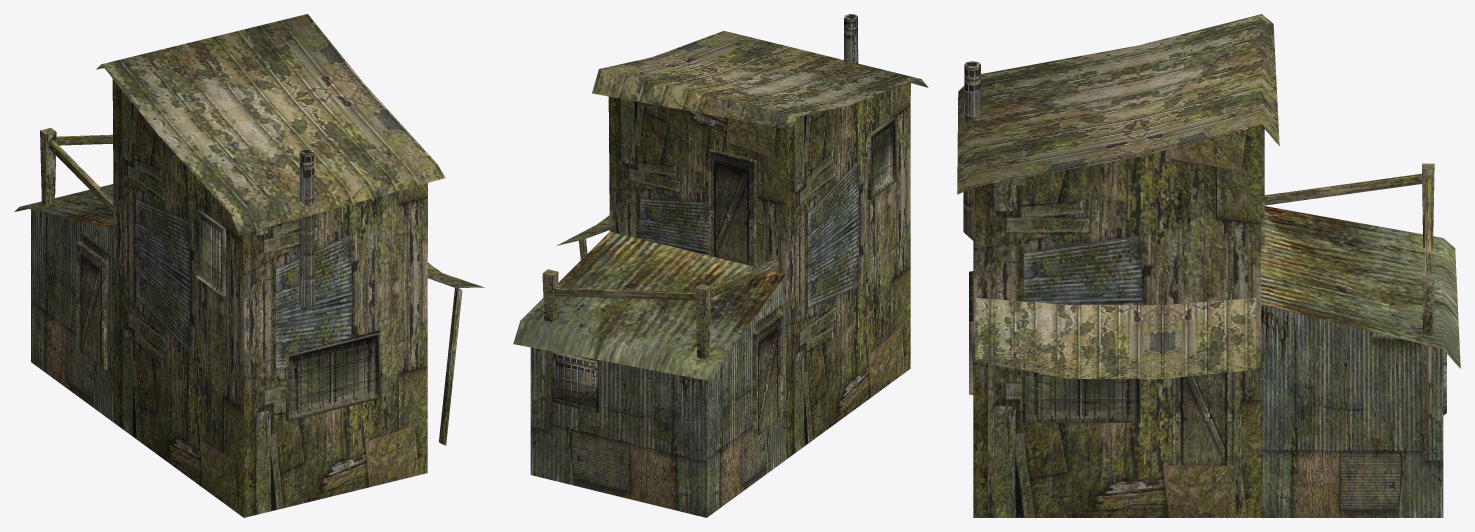
File: MSlm02B.glb
3 views of the same model, side by side, from view 1: azimuth 30°, elevation 25°; view 2: azimuth 150°, elevation 25°; view 3: azimuth 270°, elevation 25° (orthographic). The views are drawn at different scales.
Visible parts, largest first — view 1: _MSlm02B; view 2: _MSlm02B; view 3: _MSlm02B.
Part boxes in pixels (box(x1,y1,x2,y2)): _MSlm02B: box(14, 14, 484, 517); _MSlm02B: box(513, 14, 928, 517); _MSlm02B: box(957, 14, 1460, 517).
Bounding box in the file's own units: 5.49 × 7.46 × 8.54.
1 material, 1 textured.
